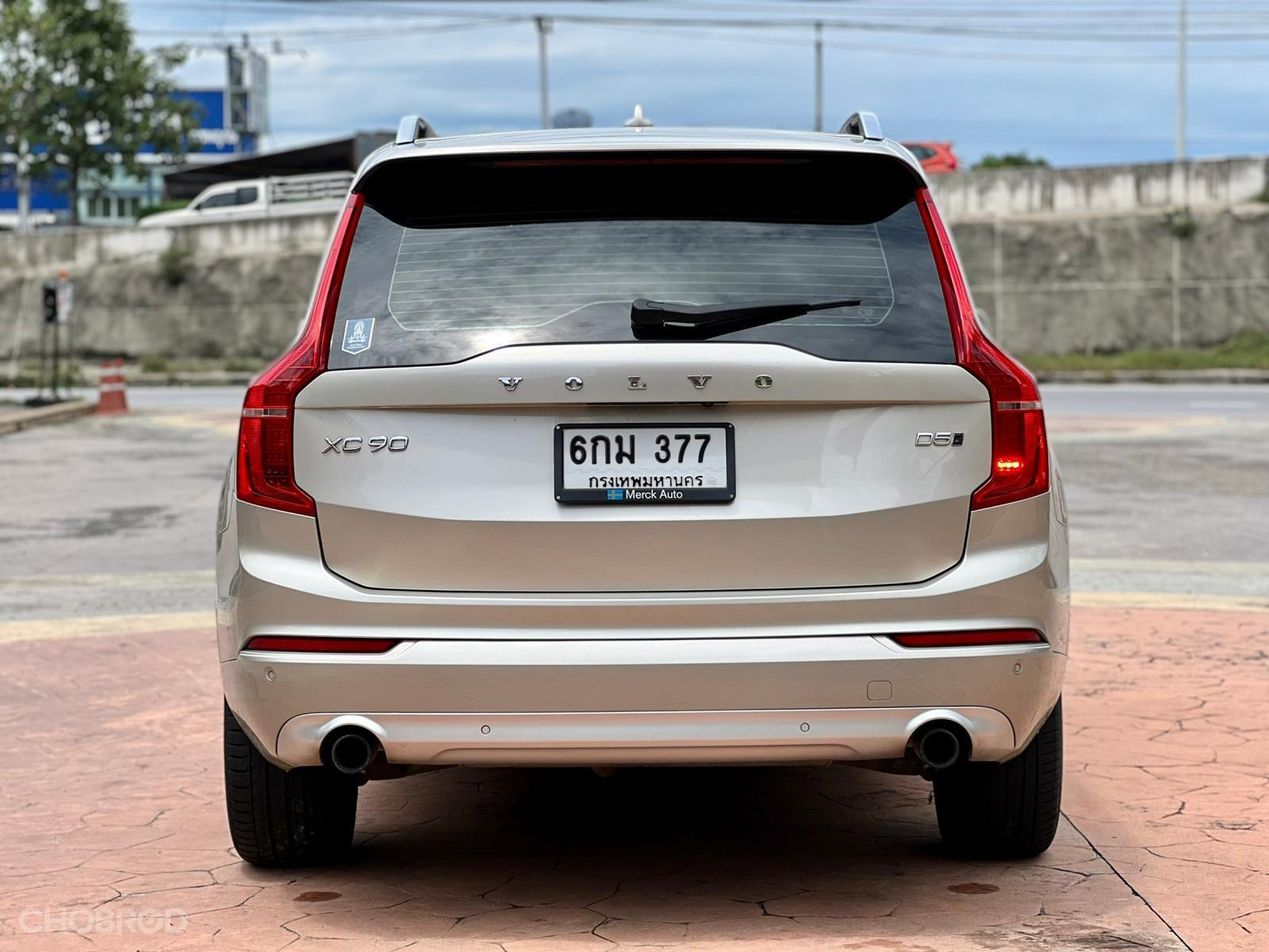license-plate: (553, 422, 738, 506)
